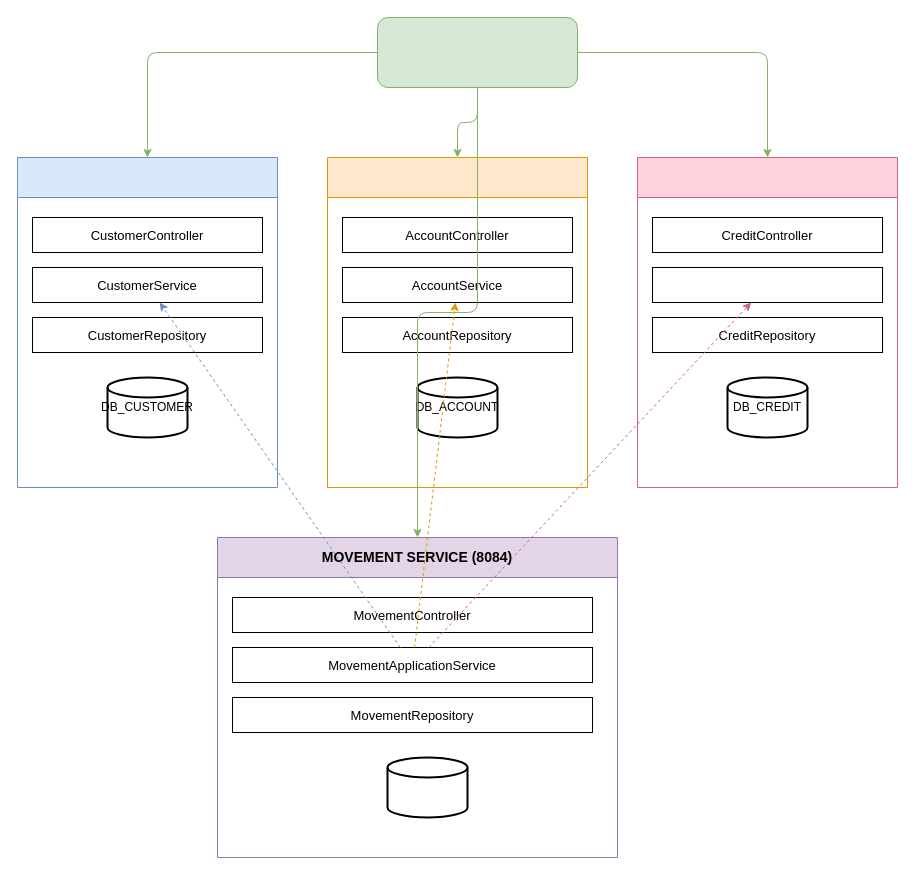
Image size: 915x875. Some labels were removed from this diagram. The box of each missing label's shape, as (x1, y1, x2, y2) in pixels:
ACCOUNT SERVICE (8082): (326, 156, 588, 488)
CONFIG SERVER (Port 8888): (376, 16, 578, 88)
CREDIT SERVICE (8083): (636, 156, 898, 488)
CreditService: (652, 266, 882, 302)
CUSTOMER SERVICE (8081): (16, 156, 278, 488)
DB_MOVEMENT: (386, 756, 468, 818)
